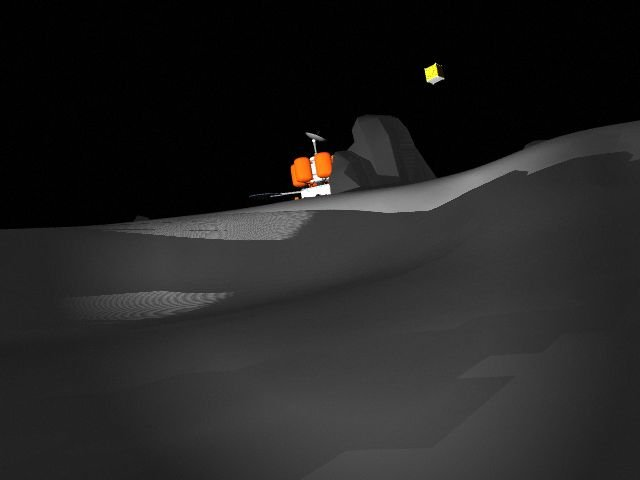cubesat: (417, 59, 452, 90)
